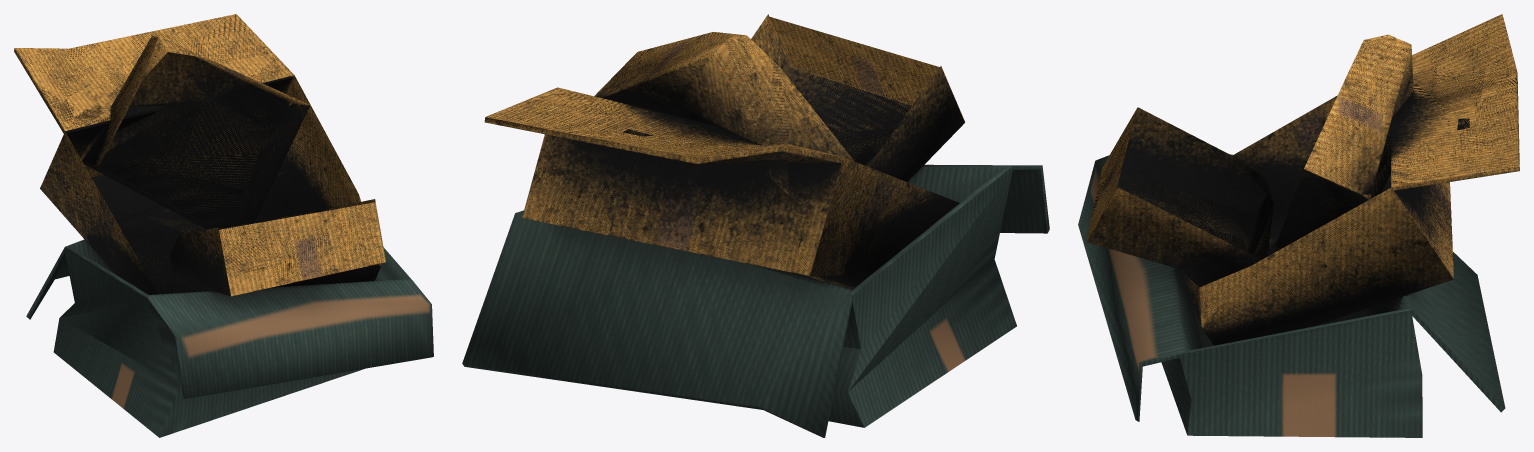
The model's file is rubbish2.fbx.
3 views of the same model, side by side, from view 1: azimuth 30°, elevation 25°; view 2: azimuth 150°, elevation 25°; view 3: azimuth 270°, elevation 25° (orthographic). The views are drawn at different scales.
Parts seen in each view (by area): view 1: rubish2_LOD0; view 2: rubish2_LOD0; view 3: rubish2_LOD0.
Boxes of the visible parts, <box> form: rubish2_LOD0: <box>14,14,433,437</box>; rubish2_LOD0: <box>462,14,1049,437</box>; rubish2_LOD0: <box>1078,14,1519,437</box>.
Size of what is drawn, in the model's own units: 1.4 by 1.36 by 1.73.
